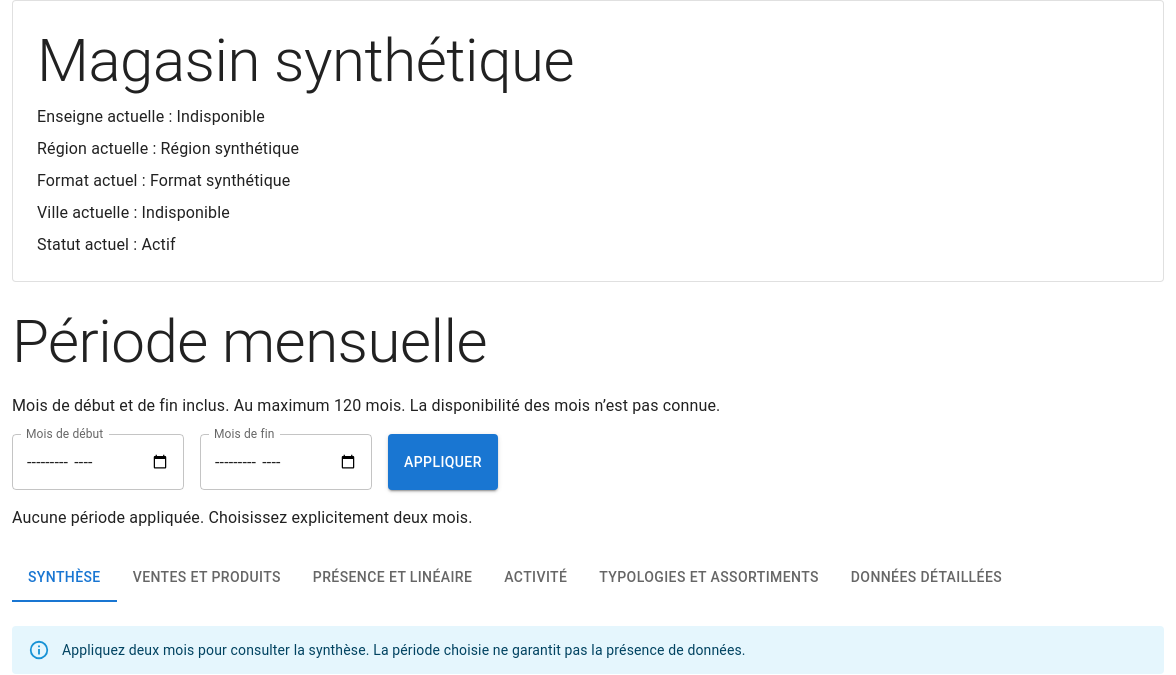
Test: keeps entered and applied periods separate and invents no observation coverage
Expected: the text "Aucune période appliquée. Choisissez explicitement deux mois." is shown, [12,508,472,527]
Type "2025-12" into the field labelled "Mois de début". click: (98, 462)
box: [12,434,184,490]
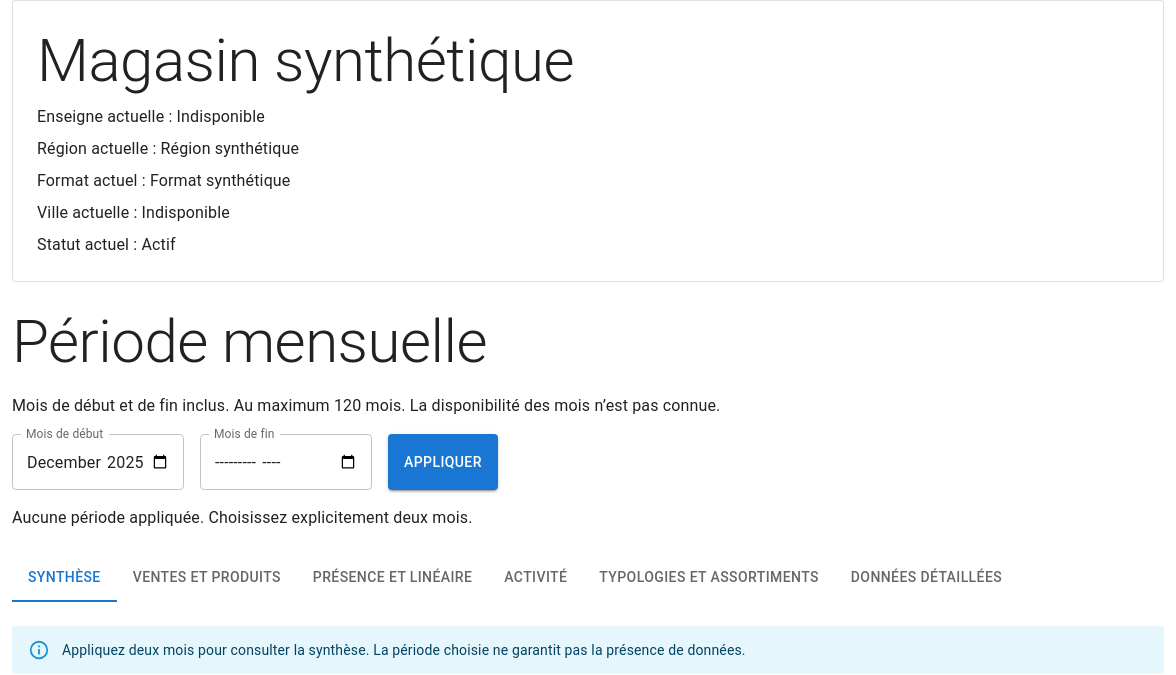
Type "2026-02" into the field labelled "Mois de fin". click: (286, 462)
box: [200,434,372,490]
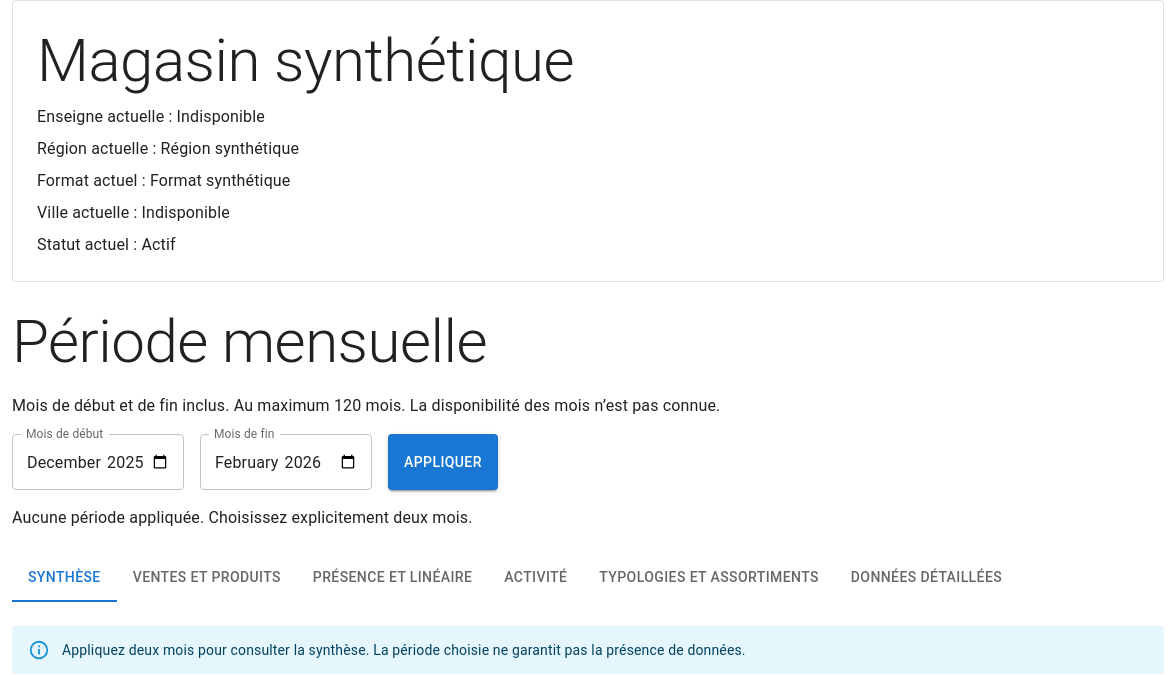
Expected: the text "Aucune période appliquée. Choisissez explicitement deux mois." is shown, [12,508,472,527]
Click the button "Appliquer". click: (443, 462)
box: [388,434,498,490]
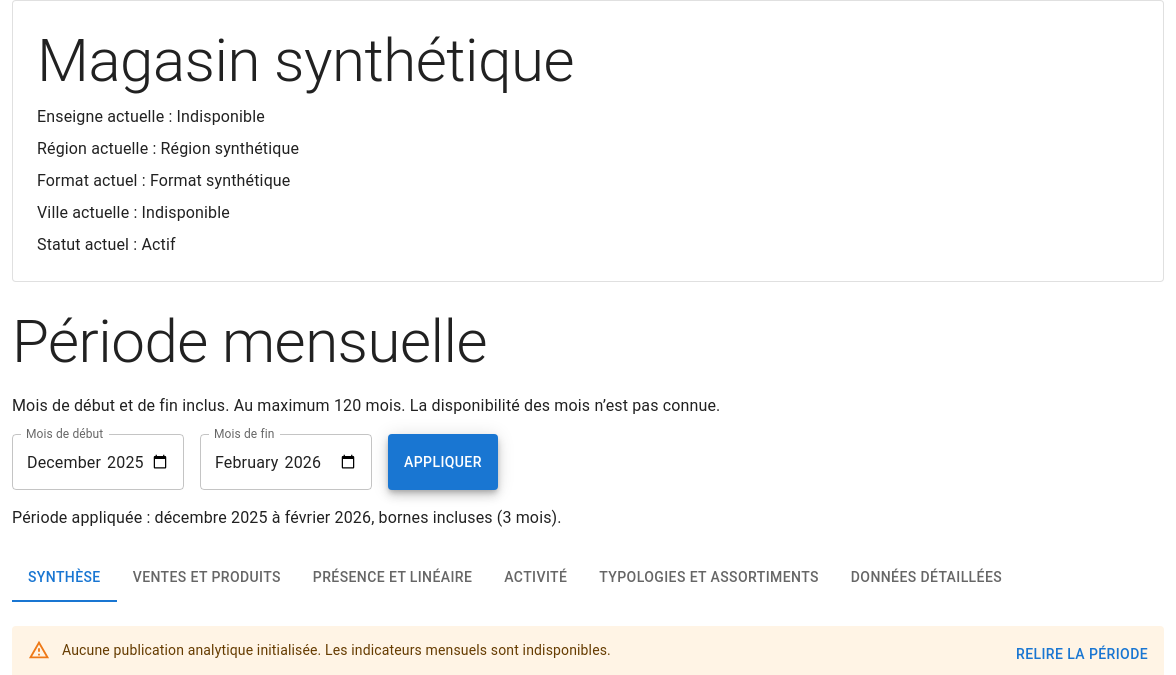
Expected: the text "Période appliquée : décembre 2025 à février 2026, bornes incluses (3 mois)." is shown, [12,508,562,527]
Replace the text in the field labelled "Mois de début" with "2026-03". click: (98, 462)
box: [12,434,184,490]
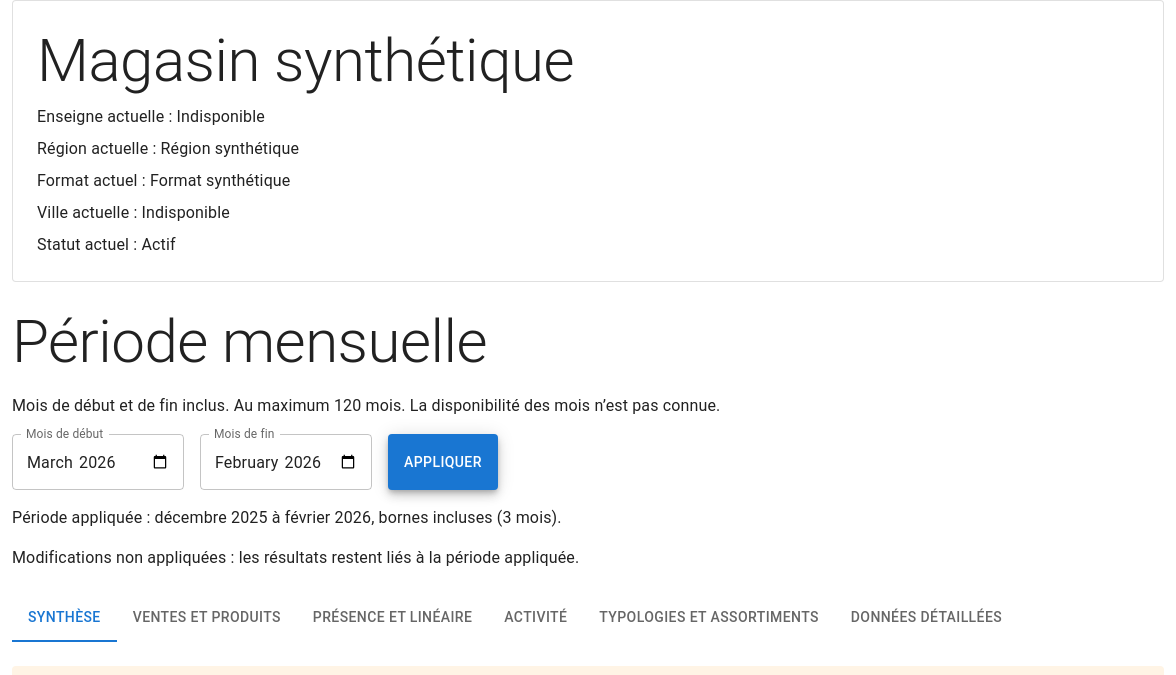
Click the button "Appliquer". click: (443, 462)
box: [388,434,498,490]
(page scrolled)
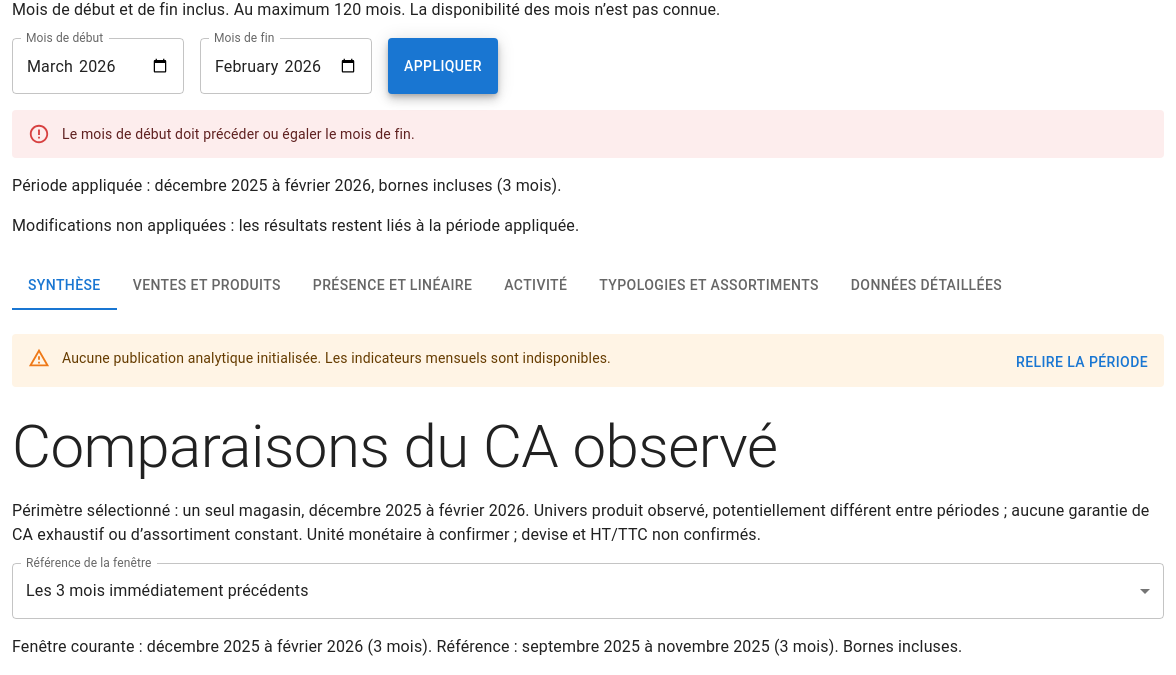
Expected: the text "Période appliquée : décembre 2025 à février 2026, bornes incluses (3 mois)." is shown, [12,176,562,195]
Expected: the text "Les indicateurs mensuels sont indisponibles" is shown, [62,350,611,366]
Expected: the text "Le mois de début doit précéder ou égaler le mois de fin." is shown, [62,126,415,142]
